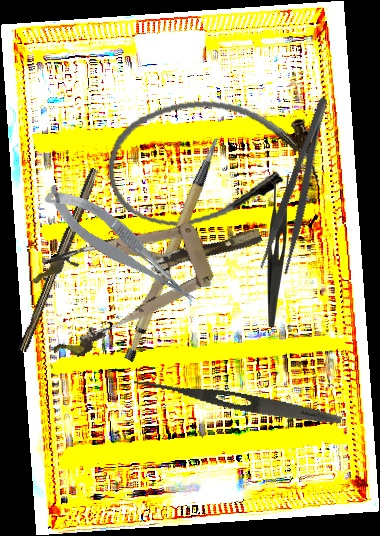Cannula: (100, 86, 322, 236)
Dressing Forceps: (256, 94, 347, 278), (131, 373, 344, 430), (267, 174, 292, 327)
Micro Scissor: (38, 170, 202, 324)
Scalpel Handle: (96, 137, 254, 364), (17, 166, 103, 355)
Speculum: (23, 188, 279, 364)
